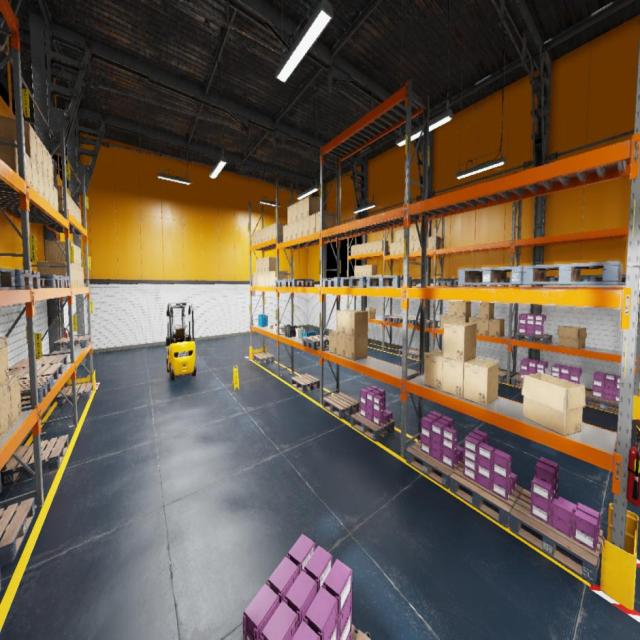box: (522, 372, 586, 436), (0, 115, 37, 166), (463, 357, 498, 406), (443, 322, 477, 362), (442, 358, 475, 398), (424, 349, 443, 391), (45, 240, 74, 265), (0, 135, 18, 174), (0, 382, 12, 438), (558, 326, 586, 349), (345, 310, 368, 336), (345, 334, 368, 360), (10, 374, 21, 426), (337, 309, 357, 334), (0, 336, 9, 388), (37, 261, 66, 276), (316, 210, 335, 232), (303, 196, 320, 218), (36, 133, 44, 173), (25, 153, 33, 187), (489, 319, 504, 337), (53, 184, 63, 210), (479, 302, 494, 319), (31, 159, 38, 193), (37, 167, 44, 199), (273, 222, 287, 238), (457, 301, 471, 317), (42, 142, 48, 179), (273, 271, 287, 286), (266, 256, 279, 272), (47, 150, 53, 184), (337, 332, 345, 357), (329, 330, 337, 354), (469, 316, 479, 334), (449, 301, 461, 316), (428, 236, 440, 251), (44, 174, 50, 203), (53, 185, 59, 212), (478, 319, 488, 335), (49, 180, 54, 208), (309, 212, 315, 234), (377, 240, 388, 252), (440, 314, 448, 329), (414, 225, 422, 239), (366, 307, 376, 318), (282, 224, 288, 242), (298, 199, 303, 220), (420, 237, 428, 250), (292, 202, 297, 222), (368, 264, 377, 275), (298, 218, 303, 237), (303, 216, 308, 235), (287, 205, 292, 224), (413, 239, 420, 252), (292, 221, 297, 239), (72, 264, 76, 286), (73, 244, 77, 266), (389, 242, 395, 255), (372, 241, 378, 253), (70, 264, 73, 287), (288, 223, 292, 240), (457, 317, 470, 322), (409, 227, 414, 240), (396, 229, 401, 242), (269, 224, 273, 240), (75, 265, 78, 286), (69, 195, 72, 215), (77, 266, 80, 286), (76, 246, 79, 266), (265, 226, 269, 241), (262, 227, 266, 242), (269, 271, 273, 286), (396, 242, 401, 254), (74, 202, 77, 221), (265, 272, 269, 286), (262, 272, 266, 286), (262, 258, 266, 272), (255, 231, 259, 244), (358, 266, 363, 276), (363, 243, 368, 253), (274, 326, 282, 332), (449, 316, 457, 322), (409, 240, 413, 252), (368, 242, 372, 253), (256, 259, 259, 273), (79, 247, 81, 267), (363, 265, 367, 275), (355, 266, 359, 276), (359, 244, 363, 254), (355, 244, 359, 254), (253, 232, 256, 245), (259, 273, 262, 286), (256, 273, 259, 286), (253, 273, 256, 286), (259, 259, 262, 272), (67, 193, 69, 212), (72, 199, 74, 218), (80, 267, 82, 286), (82, 268, 84, 286), (350, 246, 354, 255), (401, 229, 404, 241), (401, 241, 404, 253), (79, 208, 81, 225), (77, 206, 79, 222), (275, 323, 283, 327), (268, 324, 275, 328), (259, 229, 261, 243), (279, 328, 284, 332), (273, 325, 275, 329)
forklift: (166, 302, 196, 380)
pallets: (509, 489, 603, 585), (450, 463, 522, 528), (1, 434, 68, 486), (406, 439, 463, 489), (0, 498, 35, 567), (522, 262, 622, 284), (351, 410, 394, 442), (8, 363, 62, 387), (458, 266, 523, 285), (19, 375, 52, 407), (322, 392, 360, 419), (9, 354, 67, 370), (56, 383, 94, 406), (585, 390, 618, 414), (291, 374, 319, 393), (366, 276, 412, 287), (54, 336, 90, 350), (15, 270, 40, 289), (516, 332, 552, 344), (302, 335, 328, 350), (40, 276, 70, 288), (0, 268, 16, 290), (40, 274, 63, 288), (550, 276, 590, 284), (351, 624, 371, 640), (590, 276, 626, 284), (253, 352, 274, 364), (341, 277, 366, 287), (322, 278, 348, 287), (284, 279, 314, 286), (414, 320, 438, 328), (398, 349, 419, 358), (478, 280, 508, 286), (399, 317, 420, 325), (511, 374, 523, 387), (453, 280, 478, 286), (383, 316, 402, 323), (414, 351, 426, 360), (436, 280, 453, 286), (498, 370, 506, 382), (275, 280, 284, 286), (412, 281, 417, 286), (0, 567, 1, 591)
